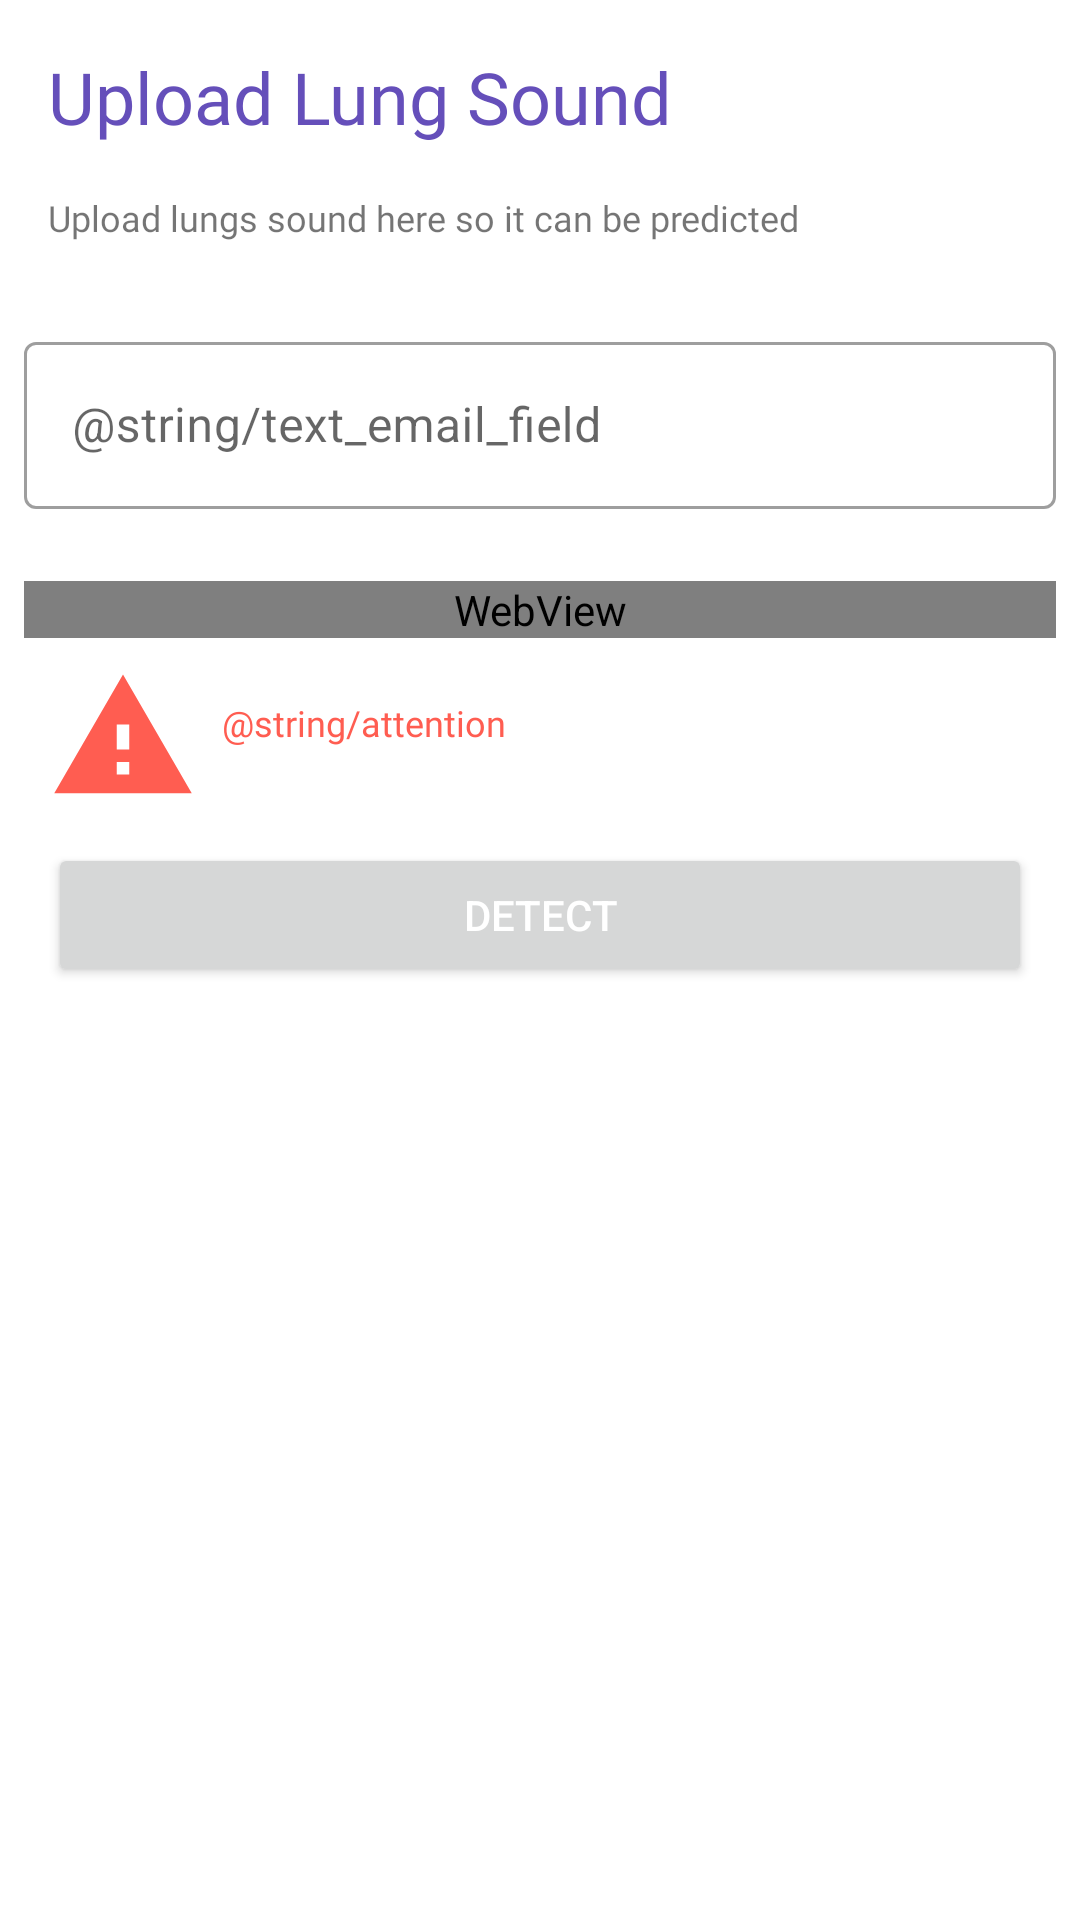

Locate icon controls on the screen. Image size 1080×1920, boxes as (x1, y1, x2, y2).
warning: (54, 675, 192, 794)
